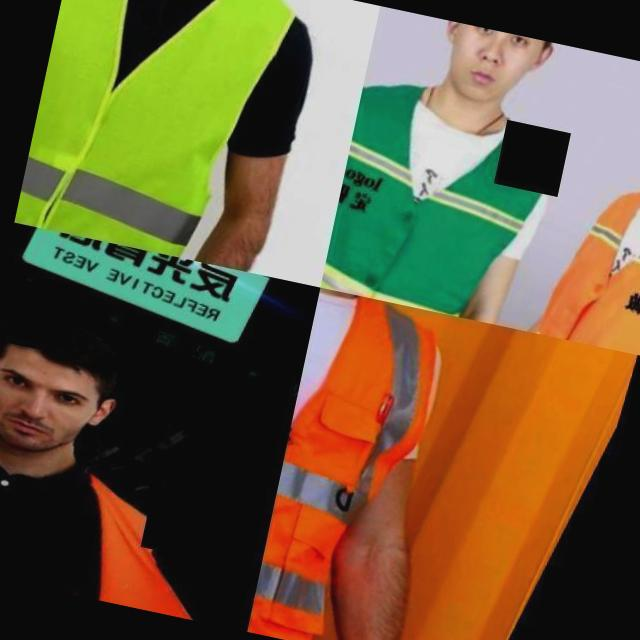vest: (14, 0, 320, 274), (246, 287, 478, 640), (320, 61, 566, 330), (502, 145, 640, 355)
